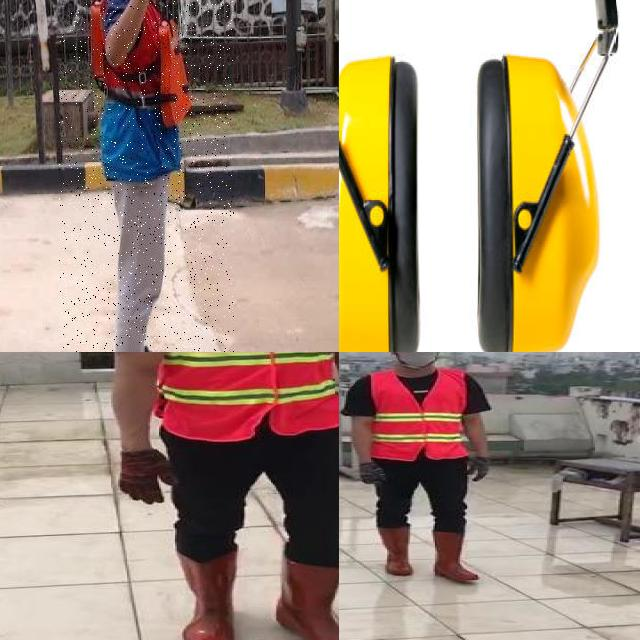Ear-protection: (471, 0, 631, 352), (339, 44, 427, 352)
boots: (276, 556, 339, 640), (176, 555, 235, 640), (434, 528, 479, 582), (376, 525, 416, 578), (141, 339, 181, 352)
face_mask: (392, 352, 440, 367)
glasses: (394, 352, 449, 355)
hand_glove: (115, 449, 177, 503), (355, 460, 385, 487), (469, 457, 495, 484)
person: (95, 352, 339, 640), (59, 0, 234, 352), (339, 352, 491, 587)
vest: (141, 352, 339, 435), (87, 0, 198, 141), (367, 370, 469, 460)
